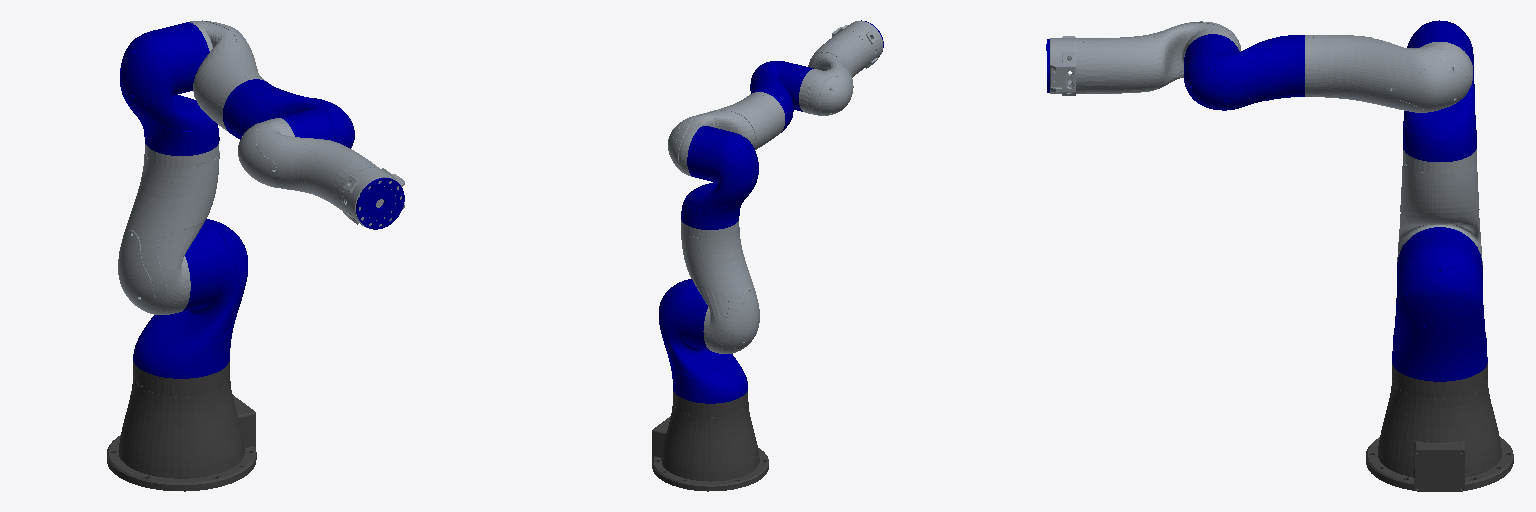
robot.urdf — srxr_description:
<robot
  name="srxr_description">
  <link name="world"/>
  <joint name="fixed" type="fixed">
    <parent link="world"/>
    <child link="base_link"/>
  </joint>
  <link
    name="base_link">
    <inertial>
      <origin
        xyz="-6.18220615097658E-06 -0.000110386205627814 0.0668513713138308"
        rpy="0 0 0" />
      <mass
        value="3.12465417835035" />
      <inertia
        ixx="0.024049829815623"
        ixy="5.5371124676366E-06"
        ixz="-0.00024006401331017"
        iyy="0.0242274478300809"
        iyz="-2.21358552660643E-05"
        izz="0.029864919468582" />
    </inertial>
    <visual>
      <origin
        xyz="0 0 0"
        rpy="0 0 0" />
      <geometry>
        <mesh
          filename="package://srxr_description/meshes/base_link.STL" />
      </geometry>
      <material
        name="">
        <color
          rgba="0.3 0.3 0.3 1" />
      </material>
    </visual>
    <collision>
      <origin
        xyz="0 0 0"
        rpy="0 0 0" />
      <geometry>
        <mesh
          filename="package://srxr_description/meshes/base_link.STL" />
      </geometry>
    </collision>
  </link>
  <link
    name="Link1">
    <inertial>
      <origin
        xyz="-0.000128335511665832 0.0323463091239493 0.305165718491791"
        rpy="0 0 0" />
      <mass
        value="1.96730291027439" />
      <inertia
        ixx="0.0150690524757784"
        ixy="-1.12038982022748E-05"
        ixz="-4.45687986097979E-06"
        iyy="0.0160665734255536"
        iyz="-0.00229312392126841"
        izz="0.00952655545819821" />
    </inertial>
    <visual>
      <origin
        xyz="0 0 0"
        rpy="0 0 0" />
      <geometry>
        <mesh
          filename="package://srxr_description/meshes/Link1.STL" />
      </geometry>
      <material
        name="">
        <color
          rgba="0.0 0.0 0.650980392156863 1" />
      </material>
    </visual>
    <collision>
      <origin
        xyz="0 0 0"
        rpy="0 0 0" />
      <geometry>
        <mesh
          filename="package://srxr_description/meshes/Link1.STL" />
      </geometry>
    </collision>
  </link>
  <joint
    name="Joint1"
    type="revolute">
    <origin
      xyz="0 0 0"
      rpy="0 -6.123E-17 -1.5708" />
    <parent
      link="base_link" />
    <child
      link="Link1" />
    <axis
      xyz="0 0 -1" />
    <limit
      lower="-3"
      upper="3"
      effort="1"
      velocity="1" />
  </joint>
  <link
    name="Link2">
    <inertial>
      <origin
        xyz="1.10567326507421E-05 -0.00946904329682434 0.0939290191650073"
        rpy="0 0 0" />
      <mass
        value="1.78543772270184" />
      <inertia
        ixx="0.0161848642432049"
        ixy="-1.51273608600718E-05"
        ixz="-1.29116349344078E-06"
        iyy="0.0158966771178665"
        iyz="-0.00409508229104811"
        izz="0.00726322203852272" />
    </inertial>
    <visual>
      <origin
        xyz="0 0 0"
        rpy="0 0 0" />
      <geometry>
        <mesh
          filename="package://srxr_description/meshes/Link2.STL" />
      </geometry>
      <material
        name="">
        <color
          rgba="0.592156862745098 0.619607843137255 0.650980392156863 1" />
      </material>
    </visual>
    <collision>
      <origin
        xyz="0 0 0"
        rpy="0 0 0" />
      <geometry>
        <mesh
          filename="package://srxr_description/meshes/Link2.STL" />
      </geometry>
    </collision>
  </link>
  <joint
    name="Joint2"
    type="revolute">
    <origin
      xyz="0 -0.025 0.36798"
      rpy="0 0 0" />
    <parent
      link="Link1" />
    <child
      link="Link2" />
    <axis
      xyz="0 -1 0" />
    <limit
      lower="-1.5"
      upper="1.5"
      effort="1"
      velocity="1" />
  </joint>
  <link
    name="Link3">
    <inertial>
      <origin
        xyz="7.83337585782143E-05 -0.0313850622482414 0.0991454994740939"
        rpy="0 0 0" />
      <mass
        value="1.39140784630814" />
      <inertia
        ixx="0.0080085320247766"
        ixy="1.22389843085705E-06"
        ixz="-3.50491870330462E-06"
        iyy="0.00761689427758387"
        iyz="0.00131227407294308"
        izz="0.00474551558959007" />
    </inertial>
    <visual>
      <origin
        xyz="0 0 0"
        rpy="0 0 0" />
      <geometry>
        <mesh
          filename="package://srxr_description/meshes/Link3.STL" />
      </geometry>
      <material
        name="">
        <color
          rgba="0.0 0.0 0.650980392156863 1" />
      </material>
    </visual>
    <collision>
      <origin
        xyz="0 0 0"
        rpy="0 0 0" />
      <geometry>
        <mesh
          filename="package://srxr_description/meshes/Link3.STL" />
      </geometry>
    </collision>
  </link>
  <joint
    name="Joint3"
    type="revolute">
    <origin
      xyz="0 0.026 0.2425"
      rpy="0 0 0" />
    <parent
      link="Link2" />
    <child
      link="Link3" />
    <axis
      xyz="0 0 -1" />
    <limit
      lower="-3"
      upper="3"
      effort="1"
      velocity="1" />
  </joint>
  <link
    name="Link4">
    <inertial>
      <origin
        xyz="0.0947908182016973 0.00801710990212005 2.83195897289312E-05"
        rpy="0 0 0" />
      <mass
        value="1.464762990317" />
      <inertia
        ixx="0.00463862187935449"
        ixy="0.00288786909093057"
        ixz="4.42189506073793E-06"
        iyy="0.0112891893760499"
        iyz="-1.81533152688695E-06"
        izz="0.0119504176710742" />
    </inertial>
    <visual>
      <origin
        xyz="0 0 0"
        rpy="0 0 0" />
      <geometry>
        <mesh
          filename="package://srxr_description/meshes/Link4.STL" />
      </geometry>
      <material
        name="">
        <color
          rgba="0.592156862745098 0.619607843137255 0.650980392156863 1" />
      </material>
    </visual>
    <collision>
      <origin
        xyz="0 0 0"
        rpy="0 0 0" />
      <geometry>
        <mesh
          filename="package://srxr_description/meshes/Link4.STL" />
      </geometry>
    </collision>
  </link>
  <joint
    name="Joint4"
    type="revolute">
    <origin
      xyz="0 0.025 0.1565"
      rpy="0 0 0" />
    <parent
      link="Link3" />
    <child
      link="Link4" />
    <axis
      xyz="0 1 0" />
    <limit
      lower="-3.5"
      upper="0.5"
      effort="1"
      velocity="1" />
  </joint>
  <link
    name="Link5">
    <inertial>
      <origin
        xyz="0.106843147230336 0.028700121029153 -3.60616018891813E-05"
        rpy="0 0 0" />
      <mass
        value="1.02273548503604" />
      <inertia
        ixx="0.00296404585521642"
        ixy="-0.000844024707503941"
        ixz="3.40065091007364E-06"
        iyy="0.00504265899484967"
        iyz="7.16167595893799E-06"
        izz="0.00558232355980157" />
    </inertial>
    <visual>
      <origin
        xyz="0 0 0"
        rpy="0 0 0" />
      <geometry>
        <mesh
          filename="package://srxr_description/meshes/Link5.STL" />
      </geometry>
      <material
        name="">
        <color
          rgba="0.0 0.0 0.650980392156863 1" />
      </material>
    </visual>
    <collision>
      <origin
        xyz="0 0 0"
        rpy="0 0 0" />
      <geometry>
        <mesh
          filename="package://srxr_description/meshes/Link5.STL" />
      </geometry>
    </collision>
  </link>
  <joint
    name="Joint5"
    type="revolute">
    <origin
      xyz="0.2375 -0.026 0"
      rpy="0 0 0" />
    <parent
      link="Link4" />
    <child
      link="Link5" />
    <axis
      xyz="1 0 0" />
    <limit
      lower="-3"
      upper="3"
      effort="1"
      velocity="1" />
  </joint>
  <link
    name="Link6">
    <inertial>
      <origin
        xyz="0.143694696380143 0.00111899399962873 -5.34945541851295E-05"
        rpy="0 0 0" />
      <mass
        value="1.39121289741334" />
      <inertia
        ixx="0.00400822131179116"
        ixy="-0.00439228373674704"
        ixz="-9.75061318624305E-06"
        iyy="0.0170317812117812"
        iyz="-5.19630152466291E-06"
        izz="0.0183671562443913" />
    </inertial>
    <visual>
      <origin
        xyz="0 0 0"
        rpy="0 0 0" />
      <geometry>
        <mesh
          filename="package://srxr_description/meshes/Link6.STL" />
      </geometry>
      <material
        name="">
        <color
          rgba="0.592156862745098 0.619607843137255 0.650980392156863 1" />
      </material>
    </visual>
    <collision>
      <origin
        xyz="0 0 0"
        rpy="0 0 0" />
      <geometry>
        <mesh
          filename="package://srxr_description/meshes/Link6.STL" />
      </geometry>
    </collision>
  </link>
  <joint
    name="Joint6"
    type="revolute">
    <origin
      xyz="0.1615 -0.025 0"
      rpy="0 0 0" />
    <parent
      link="Link5" />
    <child
      link="Link6" />
    <axis
      xyz="0 -1 0" />
    <limit
      lower="-1.5"
      upper="1.5"
      effort="1"
      velocity="1" />
  </joint>
  <link
    name="Link7">
    <inertial>
      <origin
        xyz="-0.00443587816203461 -0.000123356437246191 6.9060937351817E-05"
        rpy="0 0 0" />
      <mass
        value="0.104269808522713" />
      <inertia
        ixx="0.000120663494046372"
        ixy="6.98616363357952E-08"
        ixz="-3.91119441998265E-08"
        iyy="6.09981740663254E-05"
        iyz="8.42486933497855E-07"
        izz="6.20313804954415E-05" />
    </inertial>
    <visual>
      <origin
        xyz="0 0 0"
        rpy="0 0 0" />
      <geometry>
        <mesh
          filename="package://srxr_description/meshes/Link7.STL" />
      </geometry>
      <material
        name="">
        <color
          rgba="0.0 0.0 0.650980392156863 1" />
      </material>
    </visual>
    <collision>
      <origin
        xyz="0 0 0"
        rpy="0 0 0" />
      <geometry>
        <mesh
          filename="package://srxr_description/meshes/Link7.STL" />
      </geometry>
    </collision>
  </link>
  <joint
    name="Joint7"
    type="revolute">
    <origin
      xyz="0.2905 0.026 0"
      rpy="0 0 0" />
    <parent
      link="Link6" />
    <child
      link="Link7" />
    <axis
      xyz="1 0 0" />
    <limit
      lower="-3"
      upper="3"
      effort="1"
      velocity="1" />
  </joint>
  <!--link
    name="Finger_base">
    <inertial>
      <origin
        xyz="-4.46918209418814E-05 0.0569802146534003 9.48047560778154E-05"
        rpy="0 0 0" />
      <mass
        value="0.353270996146669" />
      <inertia
        ixx="0.000522726086508595"
        ixy="-3.31285881592398E-07"
        ixz="-3.32466340547193E-07"
        iyy="0.00022778146443319"
        iyz="-5.72733470910404E-07"
        izz="0.000627688903543576" />
    </inertial>
    <visual>
      <origin
        xyz="0 0 0"
        rpy="0 0 0" />
      <geometry>
        <mesh
          filename="package://srxr_description/meshes/Finger_base.STL" />
      </geometry>
      <material
        name="">
        <color
          rgba="0.752941176470588 0.752941176470588 0.752941176470588 1" />
      </material>
    </visual>
    <collision>
      <origin
        xyz="0 0 0"
        rpy="0 0 0" />
      <geometry>
        <mesh
          filename="package://srxr_description/meshes/Finger_base.STL" />
      </geometry>
    </collision>
  </link>
  <joint
    name="Joint_finger"
    type="fixed">
    <origin
      xyz="0.00349999999999995 0 0"
      rpy="3.14159265358979 0 1.5707963267949" />
    <parent
      link="Link7" />
    <child
      link="Finger_base" />
    <axis
      xyz="0 0 0" />
  </joint>
  <link
    name="Finger1">
    <inertial>
      <origin
        xyz="0.138015348513507 0.0369446180420451 -0.00118497721382949"
        rpy="0 0 0" />
      <mass
        value="0.0431516484943214" />
      <inertia
        ixx="1.19979195590246E-05"
        ixy="4.11051217943295E-07"
        ixz="-5.07427520141974E-07"
        iyy="3.83366689449567E-05"
        iyz="1.38939221379224E-08"
        izz="3.9148466789634E-05" />
    </inertial>
    <visual>
      <origin
        xyz="0 0 0"
        rpy="0 0 0" />
      <geometry>
        <mesh
          filename="package://srxr_description/meshes/Finger1.STL" />
      </geometry>
      <material
        name="">
        <color
          rgba="0.752941176470588 0.752941176470588 0.752941176470588 1" />
      </material>
    </visual>
    <collision>
      <origin
        xyz="0 0 0"
        rpy="0 0 0" />
      <geometry>
        <mesh
          filename="package://srxr_description/meshes/Finger1.STL" />
      </geometry>
    </collision>
  </link>
  <joint
    name="Joint_finger1"
    type="prismatic">
    <origin
      xyz="0 -0.0035 0"
      rpy="3.1416 0 1.5708" />
    <parent
      link="Finger_base" />
    <child
      link="Finger1" />
    <axis
      xyz="0 1 0" />
    <limit
      lower="-0.025"
      upper="0"
      effort="1"
      velocity="1" />
  </joint>
  <link
    name="Finger2">
    <inertial>
      <origin
        xyz="0.138015348513508 -0.0369446180420455 -0.000192171772969929"
        rpy="0 0 0" />
      <mass
        value="0.0431516484943205" />
      <inertia
        ixx="1.19727842378075E-05"
        ixy="-4.11051217942777E-07"
        ixz="1.84729929289098E-07"
        iyy="3.83115336237384E-05"
        iyz="-1.41615503519775E-07"
        izz="3.91484667896324E-05" />
    </inertial>
    <visual>
      <origin
        xyz="0 0 0"
        rpy="0 0 0" />
      <geometry>
        <mesh
          filename="package://srxr_description/meshes/Finger2.STL" />
      </geometry>
      <material
        name="">
        <color
          rgba="0.752941176470588 0.752941176470588 0.752941176470588 1" />
      </material>
    </visual>
    <collision>
      <origin
        xyz="0 0 0"
        rpy="0 0 0" />
      <geometry>
        <mesh
          filename="package://srxr_description/meshes/Finger2.STL" />
      </geometry>
    </collision>
  </link>
  <joint
    name="Joint_finger2"
    type="prismatic">
    <origin
      xyz="0 -0.0035 0"
      rpy="3.1416 0 1.5708" />
    <parent
      link="Finger_base" />
    <child
      link="Finger2" />
    <axis
      xyz="0 1 0" />
    <limit
      lower="0"
      upper="0.025"
      effort="1"
      velocity="1" />
  </joint-->
</robot>

--- What the picture shows (computed from the rendered views, not written in the file) ---
Views: 3 orthographic renders of the robot side by side, from view 1: azimuth 30°, elevation 25°; view 2: azimuth 150°, elevation 25°; view 3: azimuth 270°, elevation 25°.
Robot: srxr_description — 9 links, 8 joints (7 revolute, 1 fixed); root link world; default pose: every joint at zero.
Visible links, largest first — view 1: base_link, Link2, Link1, Link3, Link6, Link5, Link4, Link7; view 2: base_link, Link2, Link1, Link3, Link6, Link4, Link5; view 3: base_link, Link1, Link4, Link6, Link5, Link2, Link3.
Link boxes in pixels (left/top/right/bottom): base_link: left=107, top=361, right=256, bottom=491; Link2: left=118, top=144, right=219, bottom=314; Link1: left=133, top=219, right=247, bottom=378; Link3: left=120, top=22, right=219, bottom=155; Link6: left=238, top=118, right=404, bottom=227; Link5: left=223, top=79, right=354, bottom=148; Link4: left=190, top=20, right=266, bottom=130; Link7: left=356, top=178, right=404, bottom=229; base_link: left=652, top=391, right=768, bottom=491; Link2: left=681, top=220, right=759, bottom=353; Link1: left=659, top=279, right=747, bottom=403; Link3: left=681, top=126, right=758, bottom=229; Link6: left=799, top=21, right=882, bottom=115; Link4: left=668, top=92, right=784, bottom=176; Link5: left=750, top=61, right=813, bottom=132; base_link: left=1366, top=363, right=1513, bottom=491; Link1: left=1392, top=227, right=1487, bottom=381; Link4: left=1305, top=35, right=1472, bottom=112; Link6: left=1050, top=21, right=1240, bottom=95; Link5: left=1184, top=34, right=1304, bottom=110; Link2: left=1397, top=149, right=1482, bottom=264; Link3: left=1403, top=20, right=1476, bottom=161.
Bounding box of the posed robot: 0.2539 × 0.8214 × 0.828 m (x, y, z).
8 mesh visuals loaded from 8 distinct referenced files (8 binary STL).